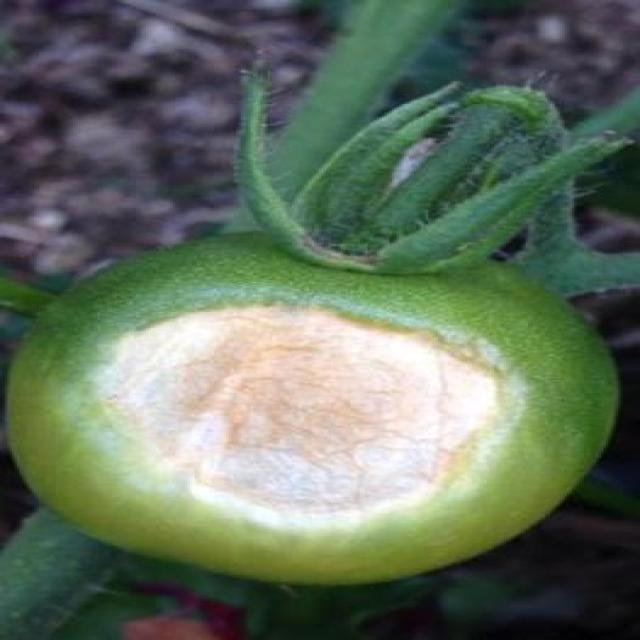Sunscald Fruit: (49, 192, 343, 365)
